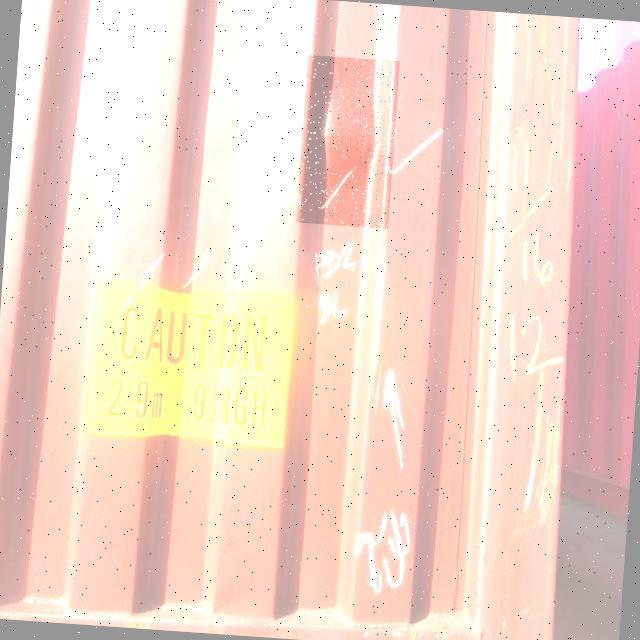Minor-Dent: (296, 55, 399, 229)
